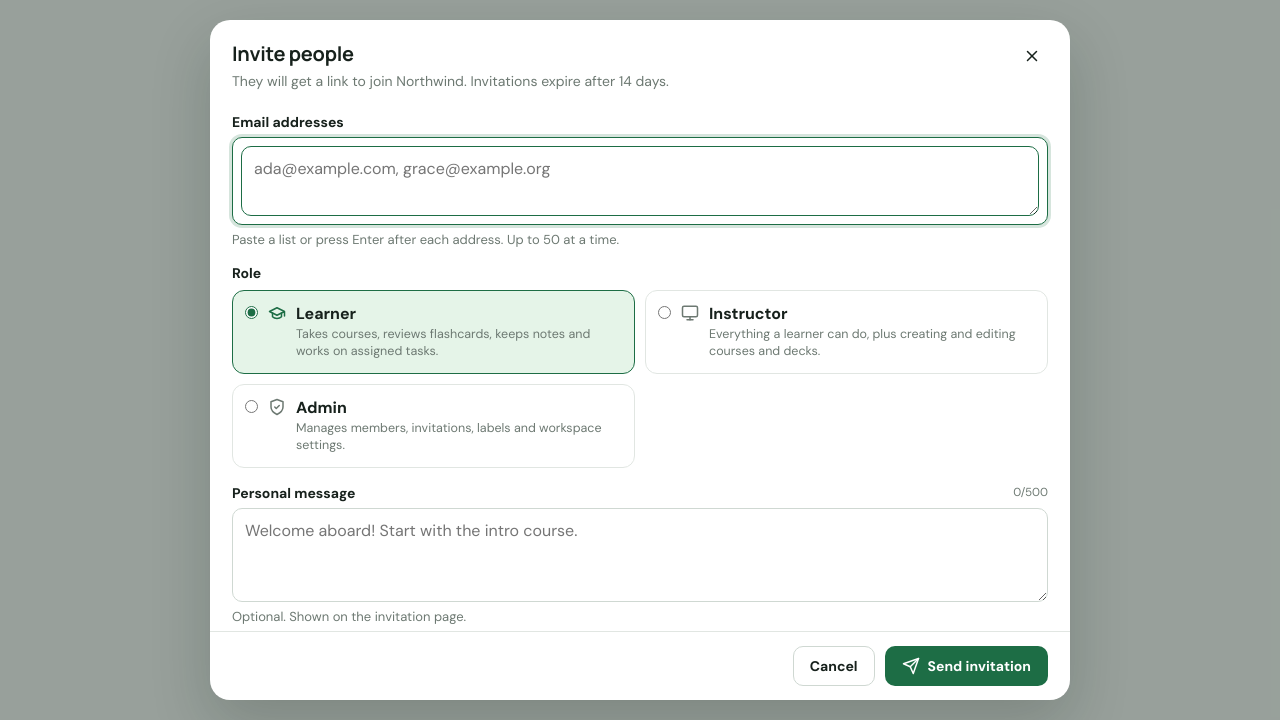
InviteModal › turns pasted text into chips and flags invalid and duplicate addresses
Type "ada@example.com, nope, ADA@example.com, " into the text box named "Email addresses" at (640, 181), box [241, 146, 1039, 216]
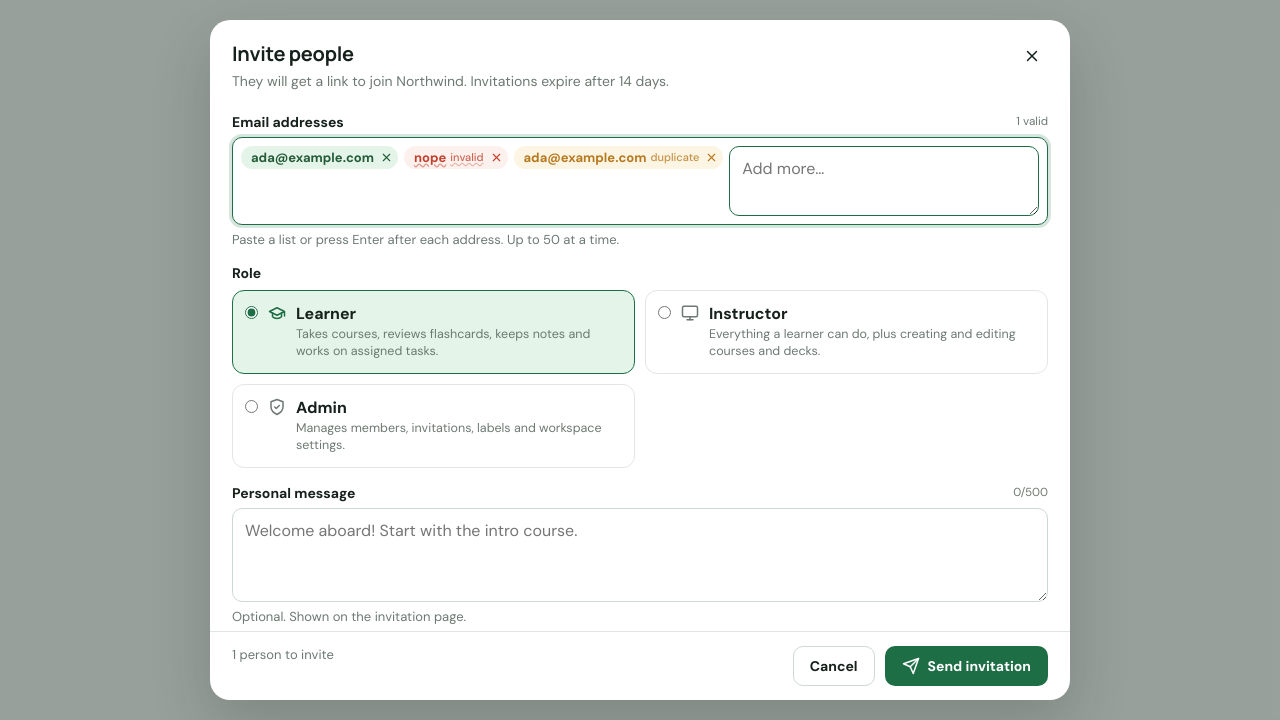
Expected: the element with class "email-chip" shows "ada@example.com", [524, 149, 646, 166]
Expected: the text "1 valid" is shown, [1016, 113, 1048, 131]
